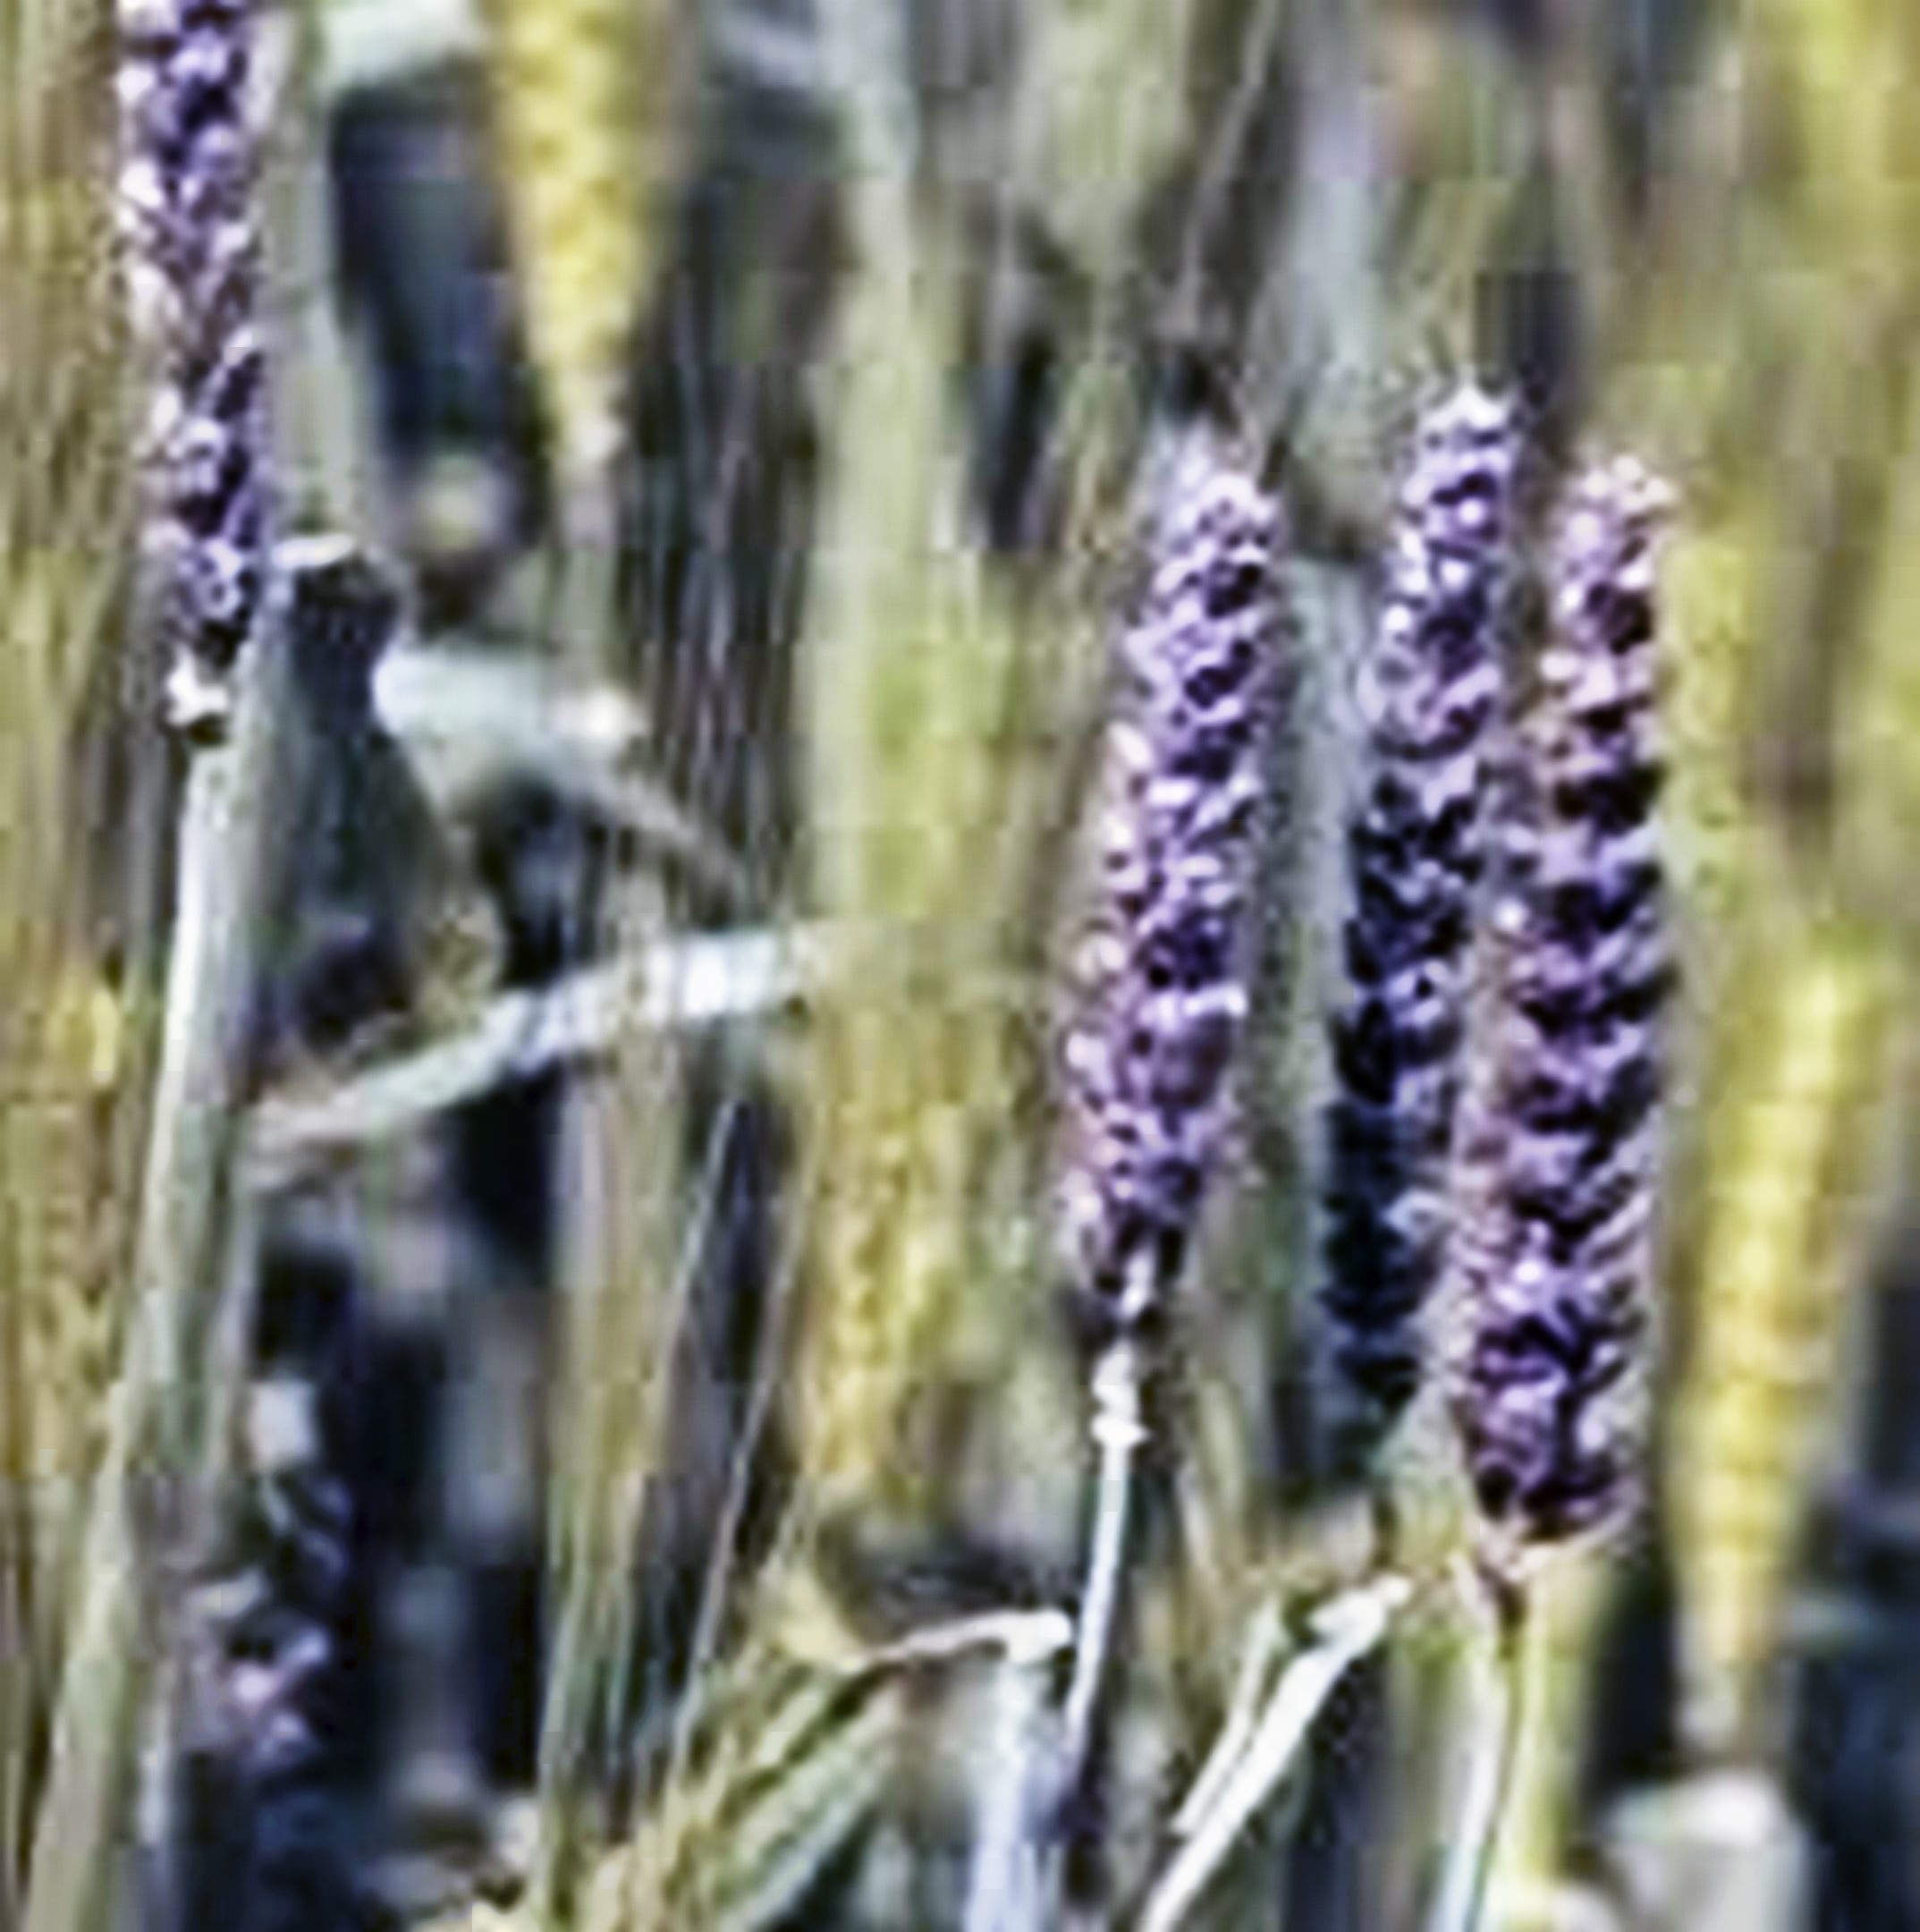Wheat Loose Smut: (1076, 359, 1734, 1573)
